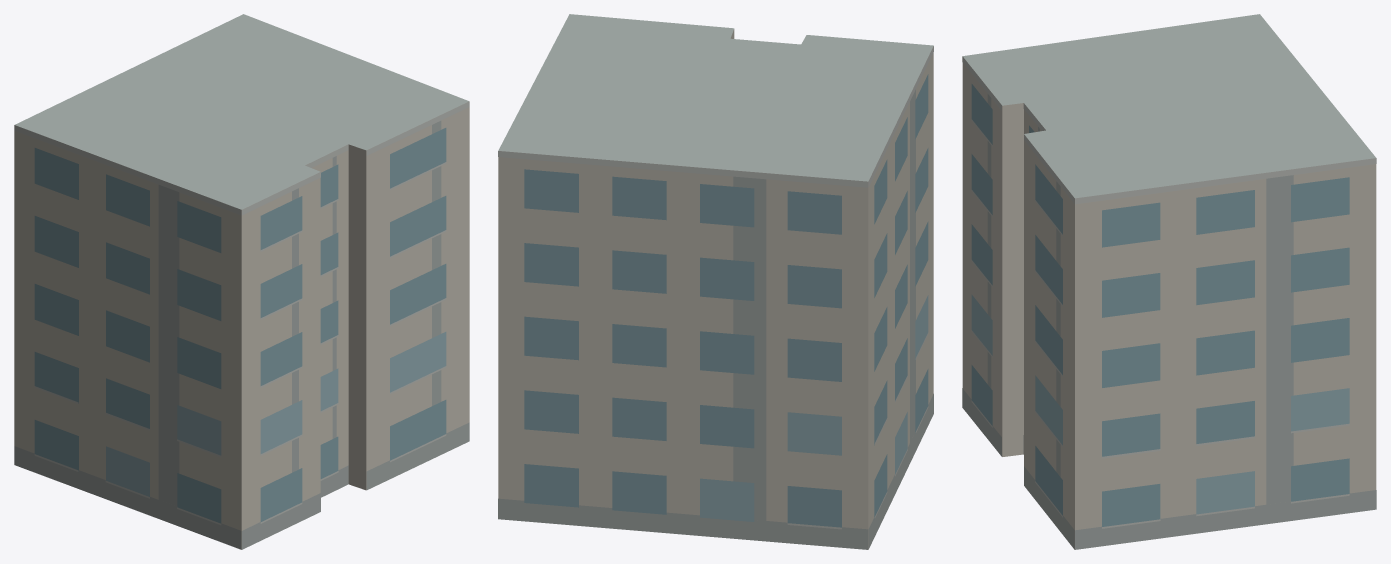
File: survey-upis-32881745.glb
3 renders of one model, left to right at view 1: azimuth 30°, elevation 25°; view 2: azimuth 150°, elevation 25°; view 3: azimuth 270°, elevation 25°, orthographic. The views are drawn at different scales.
Visible parts, largest first — view 1: survey-upis-32881745.tmp; view 2: survey-upis-32881745.tmp; view 3: survey-upis-32881745.tmp.
Boxes of the visible parts, x1=… form: survey-upis-32881745.tmp: x1=14, y1=14, x2=469, y2=549; survey-upis-32881745.tmp: x1=498, y1=14, x2=933, y2=549; survey-upis-32881745.tmp: x1=962, y1=14, x2=1376, y2=549.
Bounding box in the file's own units: 16.26 × 14.45 × 15.43.
